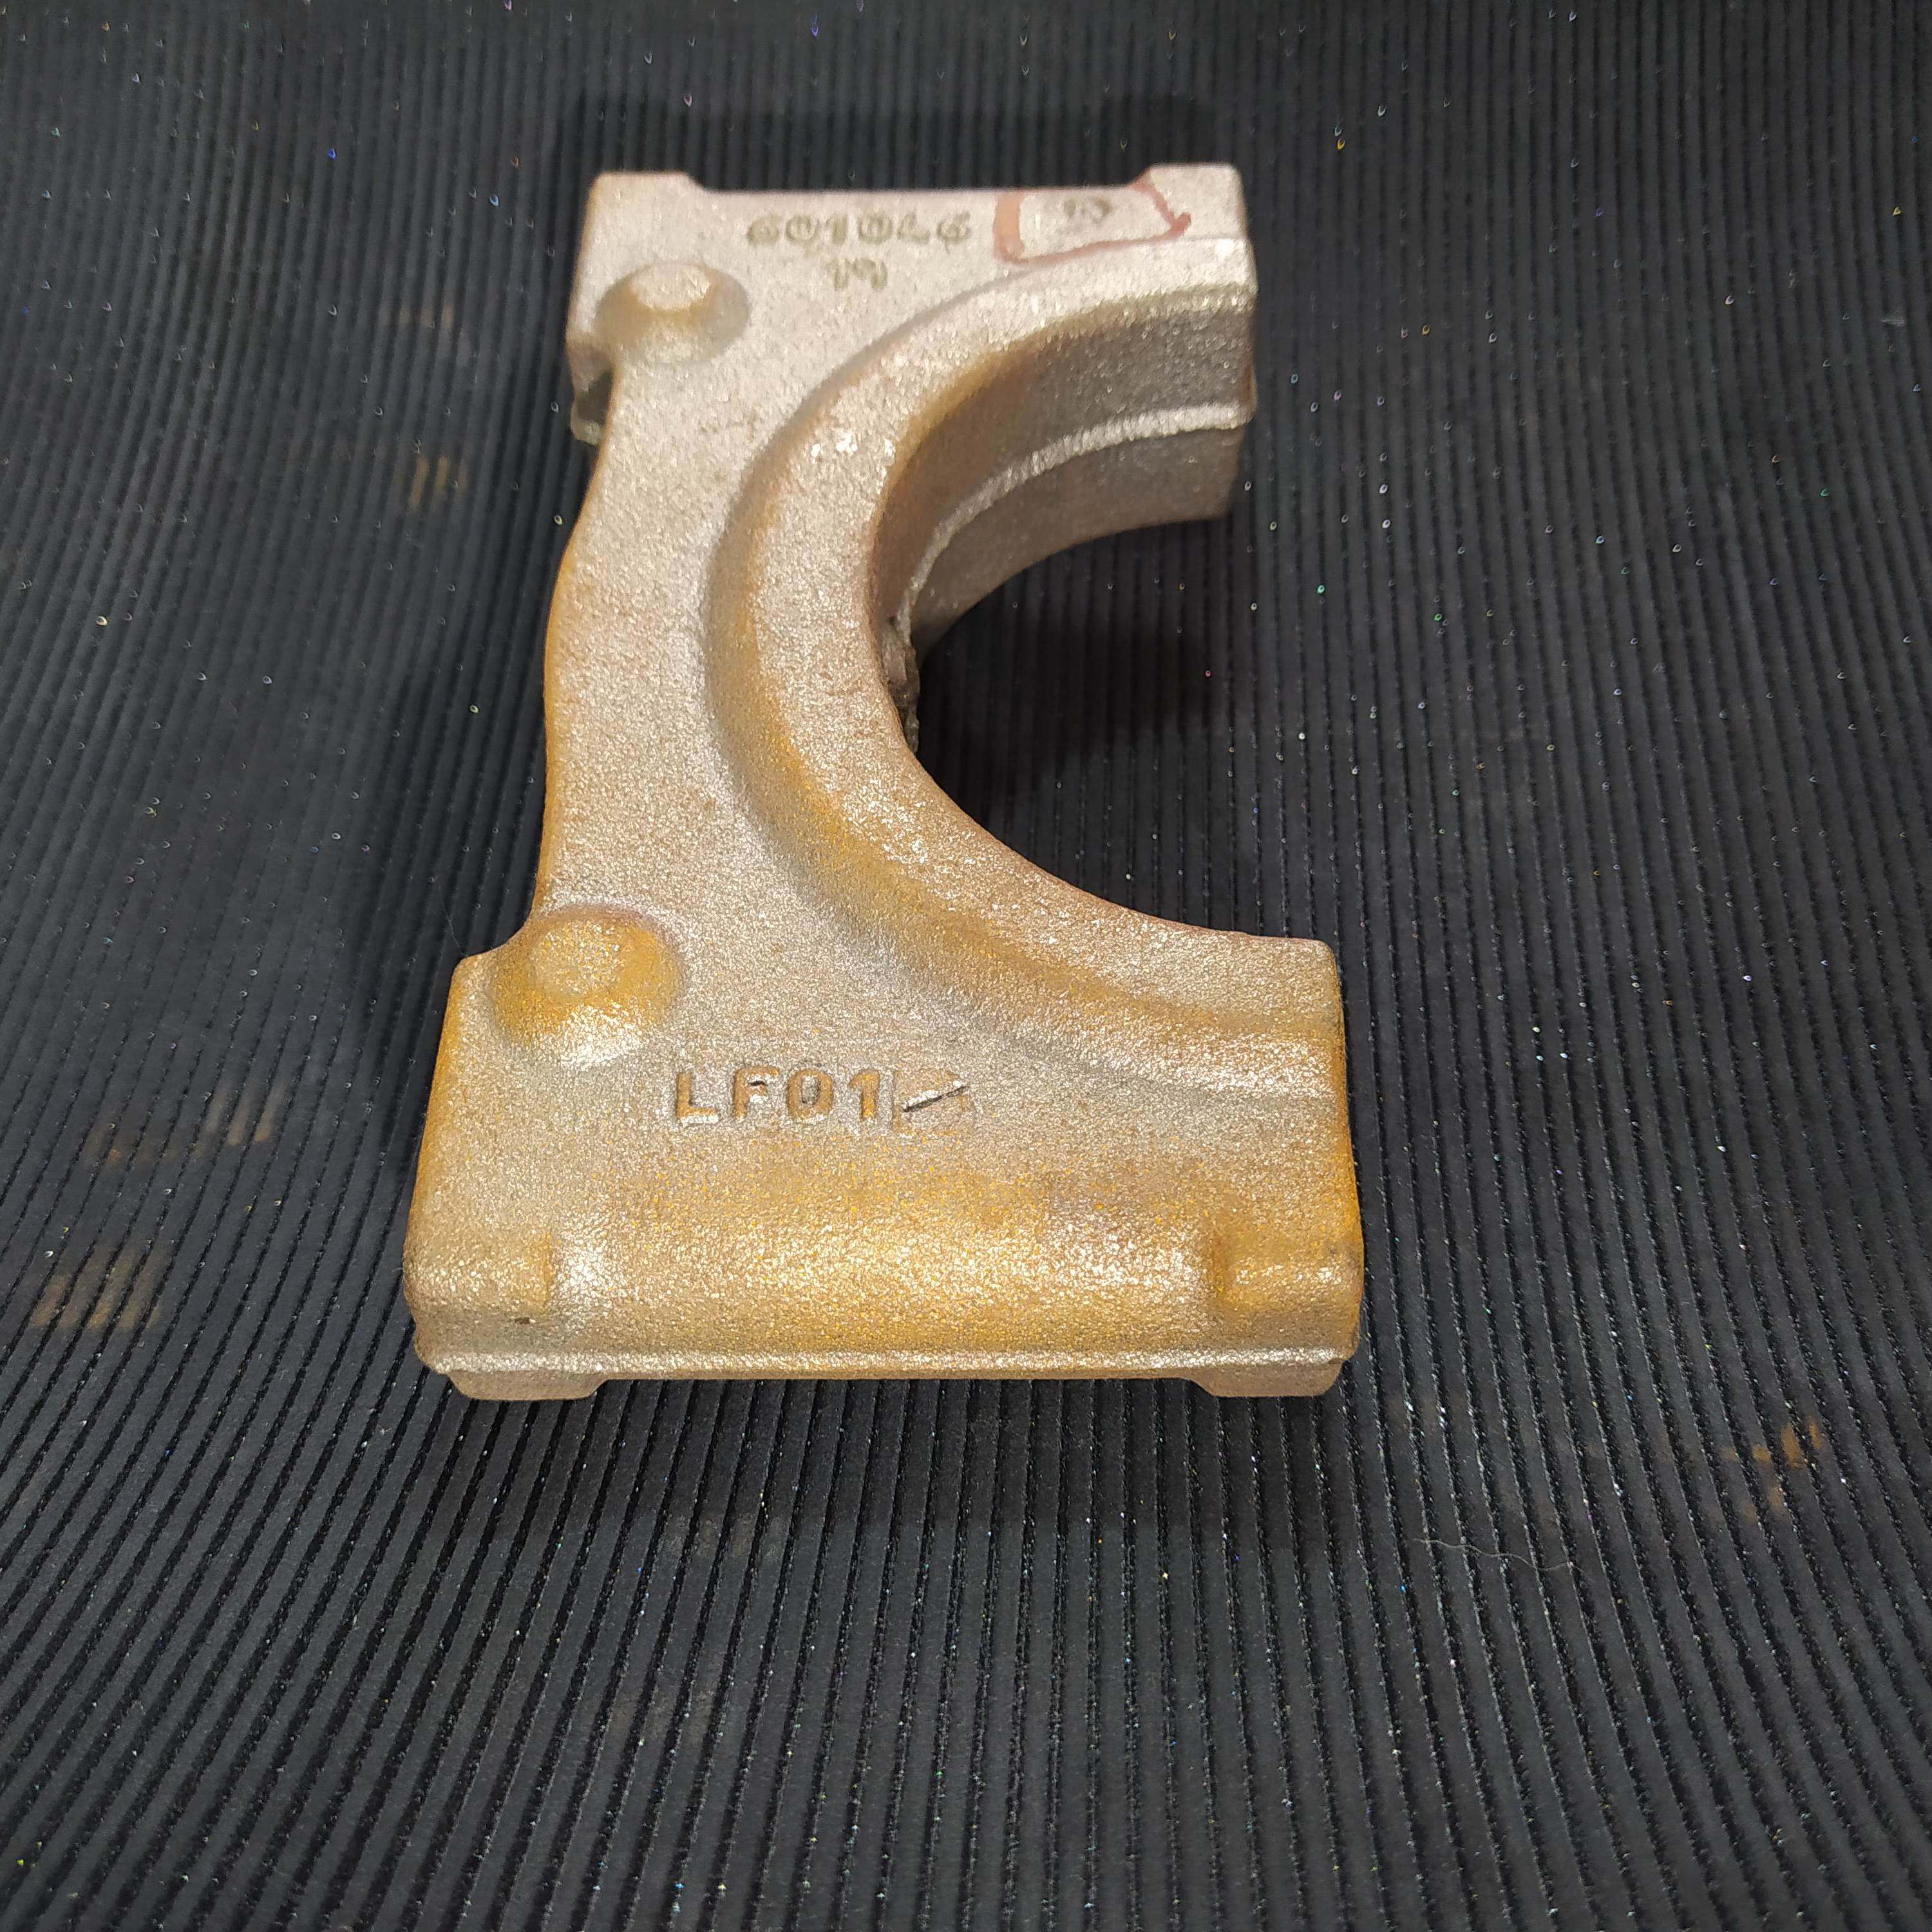buraco: (1056, 184, 1116, 230)
